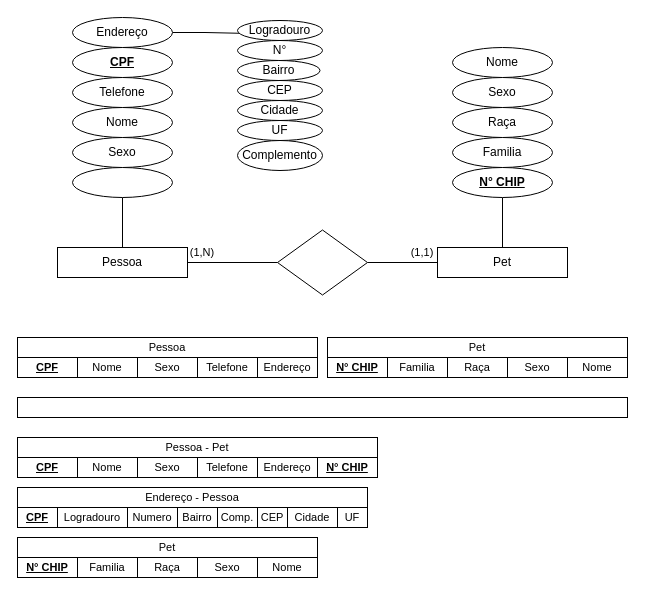
The diagram is 645 pixels wide and 595 high, and some of its shapes have lost their labels. The centre of each missing label's shape, as x and y in pixels:
Adota: point 322,262
Data de nascimento: point 122,182
Nomalização: point 322,407
